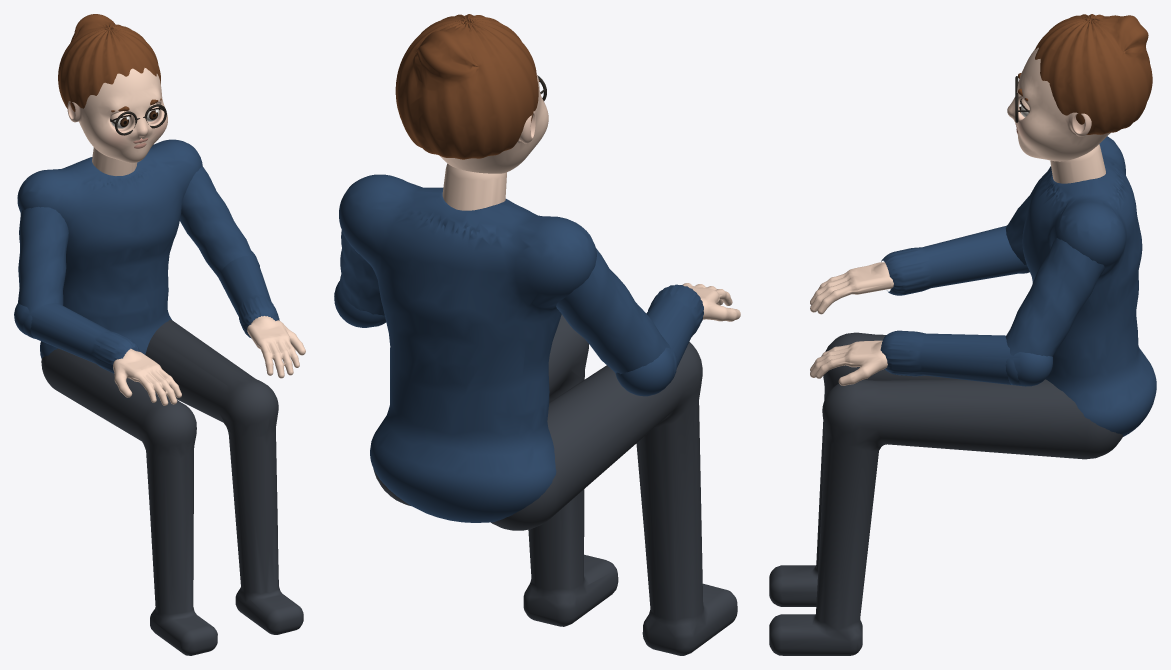
The model's file is lina.glb.
3 views of the same model, side by side, from view 1: azimuth 30°, elevation 25°; view 2: azimuth 150°, elevation 25°; view 3: azimuth 270°, elevation 25° (orthographic). The views are drawn at different scales.
Parts seen in each view (by area): view 1: legs, torso, upper_arm (×2), forearm (×2), hair_bun, head_soft, hand (×2), head, neck; view 2: torso, legs, hair_bun, upper_arm (×2), forearm (×2), neck, head_soft, hand; view 3: legs, torso, forearm (×2), hair_bun, upper_arm (×2), head_soft, hand (×2), neck.
Boxes of the visible parts, x1,y1,x2,y2 form: legs: (41,320,303,655); torso: (17,139,202,358); upper_arm (×2): (17,166,259,338); forearm (×2): (14,251,279,373); hair_bun: (58,14,160,111); head_soft: (67,68,167,163); hand (×2): (113,316,305,405); head: (110,103,166,135); neck: (92,147,137,175); torso: (339,174,596,522); legs: (373,314,737,655); hair_bun: (395,14,538,159); upper_arm (×2): (339,230,677,383); forearm (×2): (334,281,703,396); neck: (442,163,506,210); head_soft: (440,74,548,173); hand: (683,283,740,321); legs: (769,332,1122,655); torso: (1022,136,1156,436); forearm (×2): (880,225,1052,386); hair_bun: (1035,14,1152,134); upper_arm (×2): (1005,166,1104,385); head_soft: (1007,47,1110,161); hand (×2): (810,262,893,385); neck: (1050,144,1105,183).
Bounding box in the file's own units: 0.7021 × 1.46 × 0.8432.
Materials: 12 (1 with a texture image).
